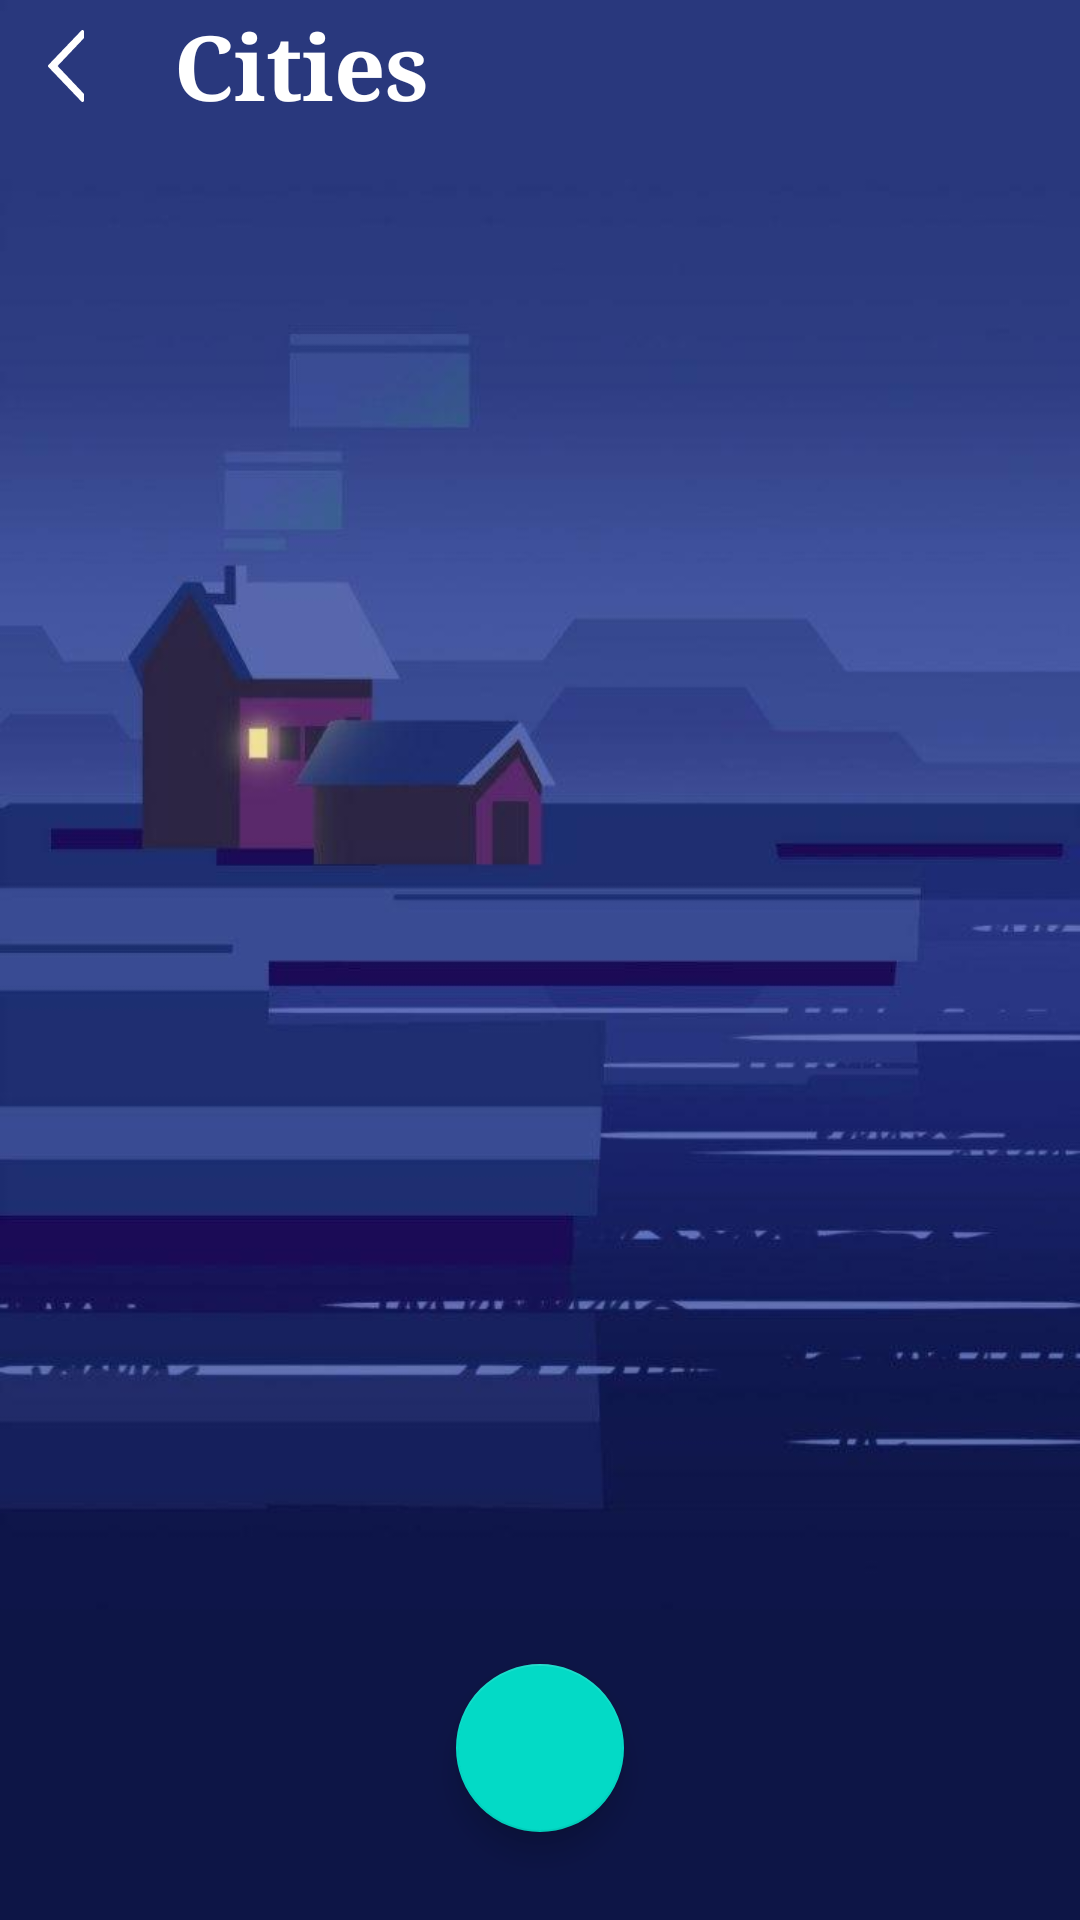

Icons on this 1080w x 1920h Android screen, each with the point to tap as (x,y):
back: (66,66)
